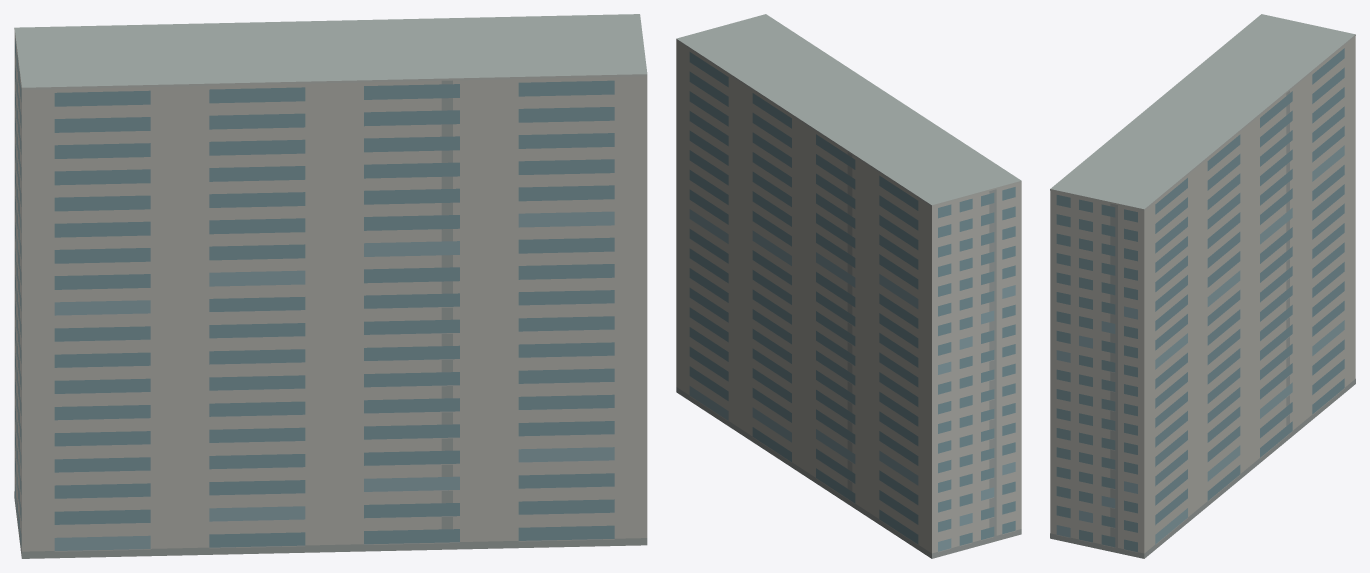
File: residential-55f90783-be2a-4cf6-8f01-f4ee40197a51.glb
3 renders of one model, left to right at view 1: azimuth 30°, elevation 25°; view 2: azimuth 150°, elevation 25°; view 3: azimuth 270°, elevation 25°, orthographic. The views are drawn at different scales.
Visible parts, largest first — view 1: residential-55f90783-be2a-4cf6-8f01-f4ee40197a51.tmp; view 2: residential-55f90783-be2a-4cf6-8f01-f4ee40197a51.tmp; view 3: residential-55f90783-be2a-4cf6-8f01-f4ee40197a51.tmp.
Part boxes in pixels (x1,y1,x2,y2): residential-55f90783-be2a-4cf6-8f01-f4ee40197a51.tmp: (14, 14, 647, 558); residential-55f90783-be2a-4cf6-8f01-f4ee40197a51.tmp: (676, 14, 1021, 558); residential-55f90783-be2a-4cf6-8f01-f4ee40197a51.tmp: (1050, 14, 1355, 558).
Size of the model in its own units: 65.77 by 54.9 by 43.5.
